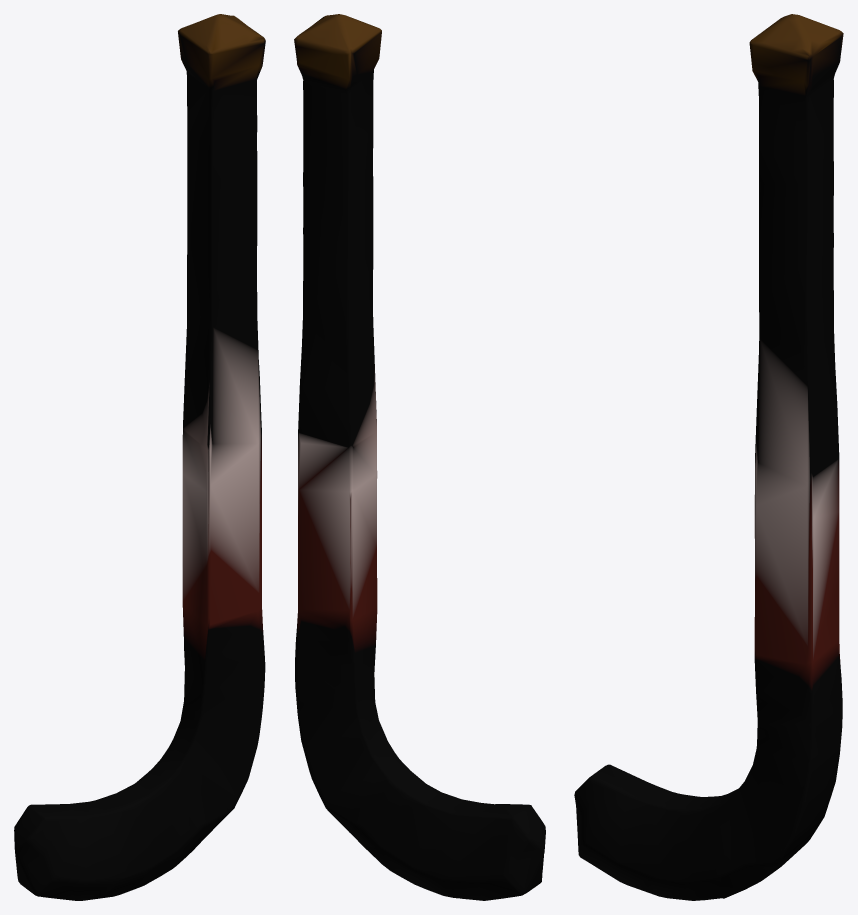
The model's file is gen3d-hockey-stick-lod1.glb.
3 renders of one model, left to right at view 1: azimuth 30°, elevation 25°; view 2: azimuth 150°, elevation 25°; view 3: azimuth 330°, elevation 25°, orthographic. The views are drawn at different scales.
Visible parts, largest first — view 1: part_0; view 2: part_0; view 3: part_0.
Boxes of the visible parts, bbox=[...] form: part_0: bbox=[14, 14, 265, 900]; part_0: bbox=[294, 14, 545, 900]; part_0: bbox=[574, 14, 843, 900].
Bounding box in the file's own units: 0.2918 × 0.9994 × 0.0701.
